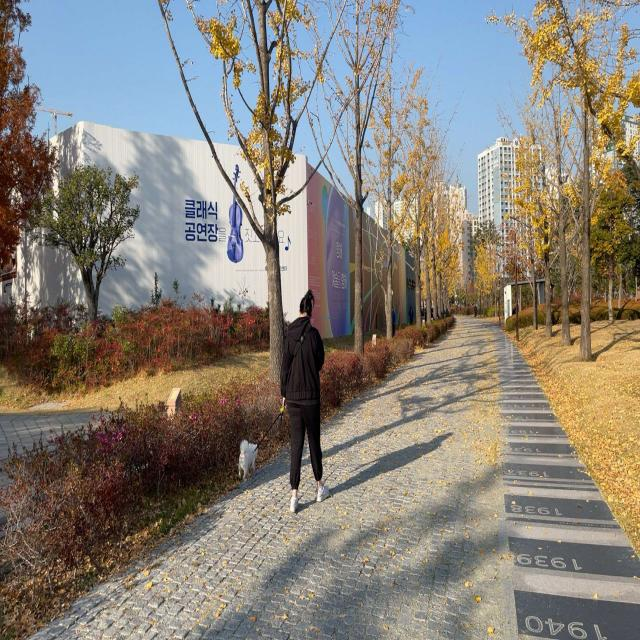Leashed_Dog: (237, 399, 298, 485)
